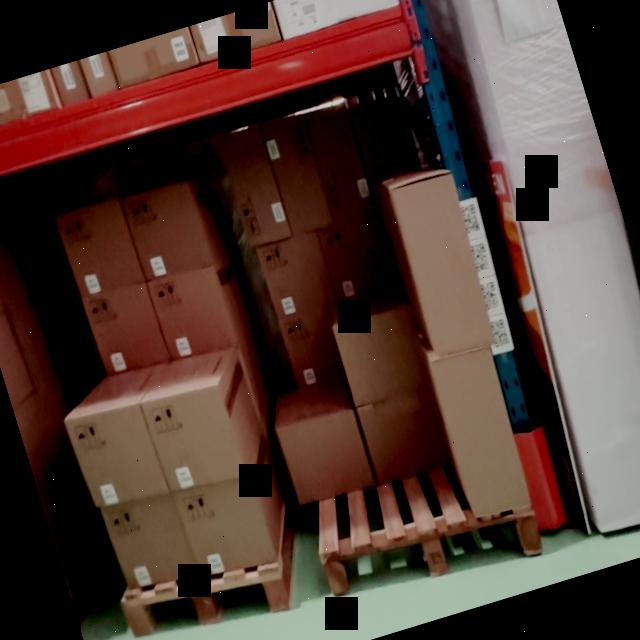box: (388, 170, 498, 358), (430, 342, 532, 520), (142, 380, 246, 498), (67, 404, 166, 514), (174, 474, 276, 578), (58, 200, 150, 306), (278, 402, 372, 504), (334, 304, 430, 401), (220, 125, 294, 247), (104, 494, 194, 594), (82, 282, 170, 382), (359, 388, 450, 484), (302, 104, 378, 215), (150, 270, 232, 366), (320, 208, 402, 302), (262, 117, 330, 230), (126, 188, 205, 280), (256, 227, 338, 314)
